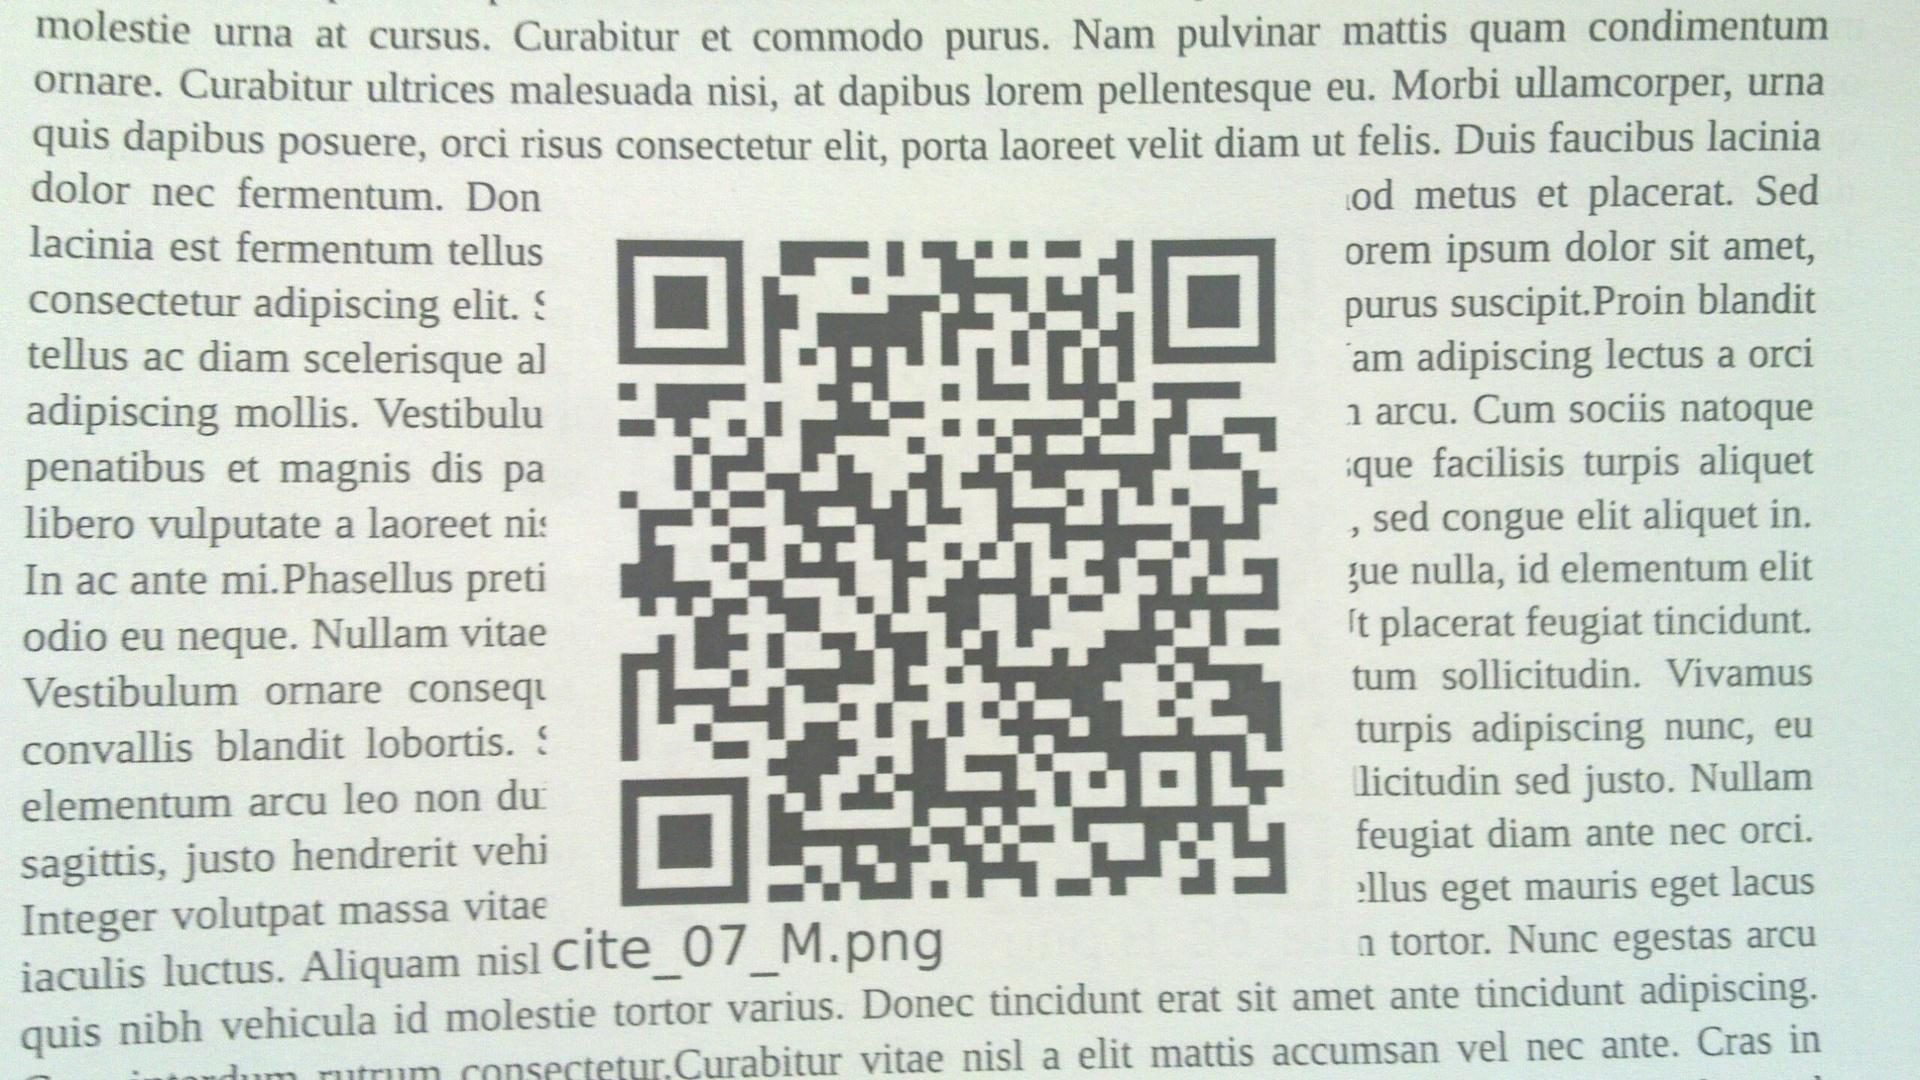Finder pattern: (611, 233, 752, 369), (616, 774, 754, 910), (1149, 233, 1280, 369)
